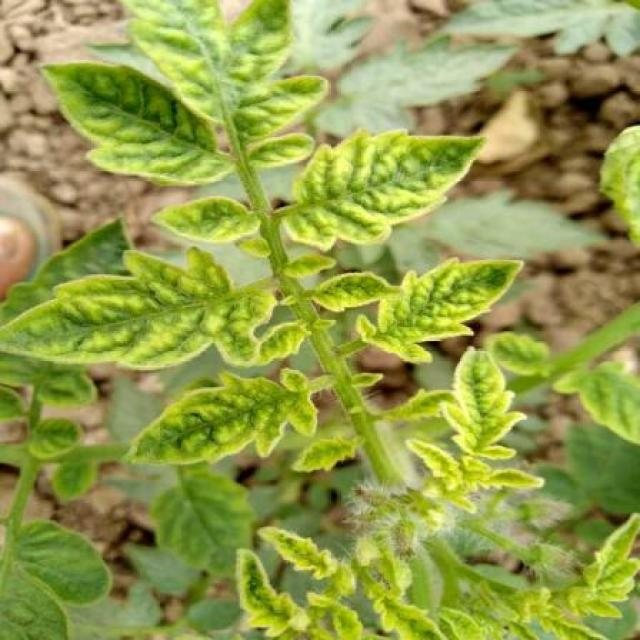Yellow Leaf Curl Virus: (0, 244, 256, 370), (284, 124, 489, 253), (46, 63, 235, 186), (126, 370, 324, 466), (356, 253, 530, 361), (433, 339, 531, 462)
